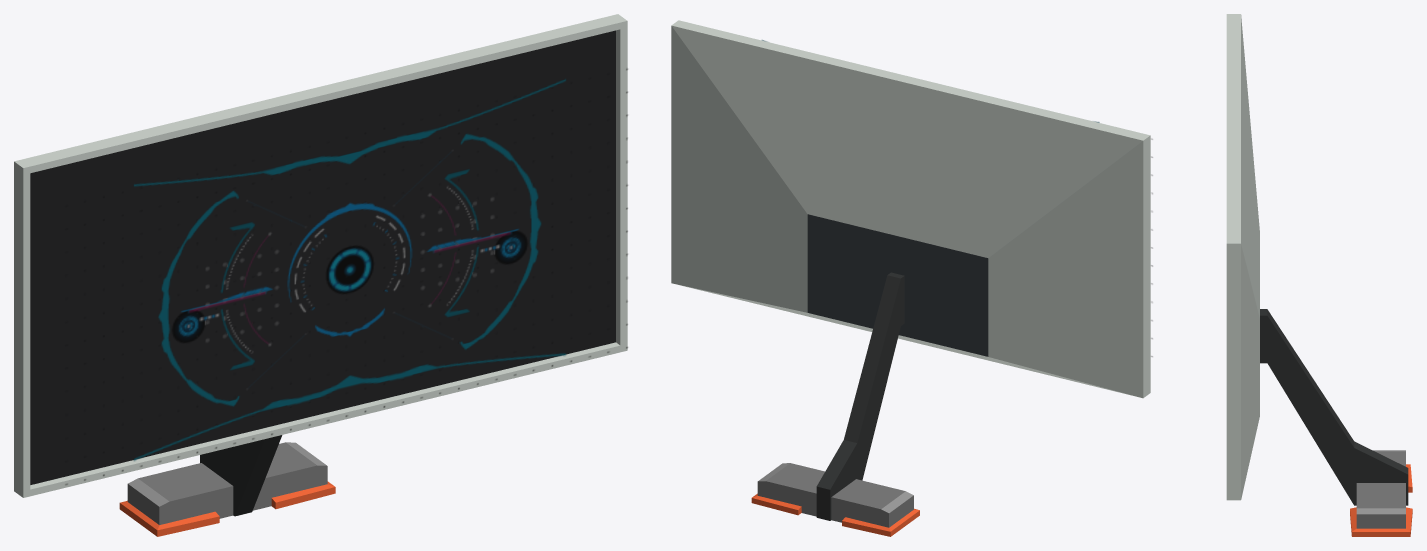
The model's file is Monitor_01.glb.
3 views of the same model, side by side, from view 1: azimuth 30°, elevation 25°; view 2: azimuth 150°, elevation 25°; view 3: azimuth 270°, elevation 25° (orthographic). The views are drawn at different scales.
Visible parts, largest first — view 1: Monitor_01; view 2: Monitor_01; view 3: Monitor_01.
Part boxes in pixels (x1,y1,x2,y2): Monitor_01: (14,14,627,536); Monitor_01: (671,20,1152,536); Monitor_01: (1226,14,1412,536).
Size of what is drawn, in the model's own units: 0.7667 by 0.5821 by 0.312.
2 materials, 2 textured.
